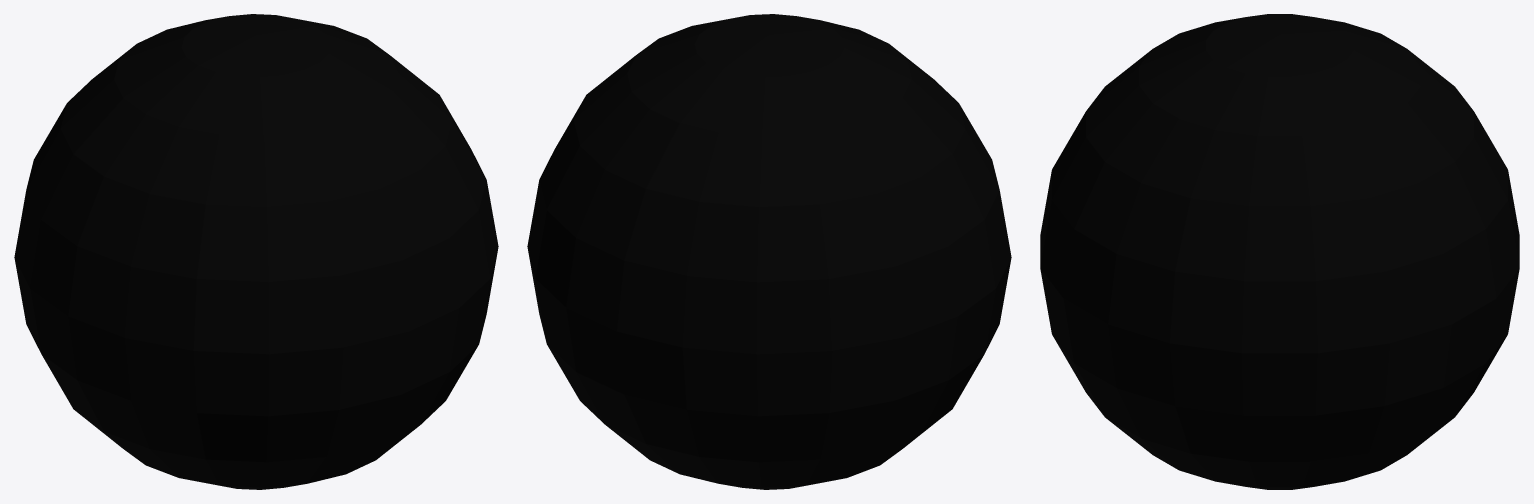
The model's file is fog_sphere.obj.
The picture shows the model from 3 angles, left to right: view 1: azimuth 30°, elevation 25°; view 2: azimuth 150°, elevation 25°; view 3: azimuth 270°, elevation 25°; orthographic projection.
Parts seen in each view (by area): view 1: sphere; view 2: sphere; view 3: sphere.
Boxes of the visible parts, box(x1,y1,x2,y2) form: sphere: box(14, 14, 498, 489); sphere: box(527, 14, 1011, 489); sphere: box(1040, 14, 1519, 489).
Size of the model in its own units: 1 by 1 by 1.
Materials: 1 (1 with a texture image).
